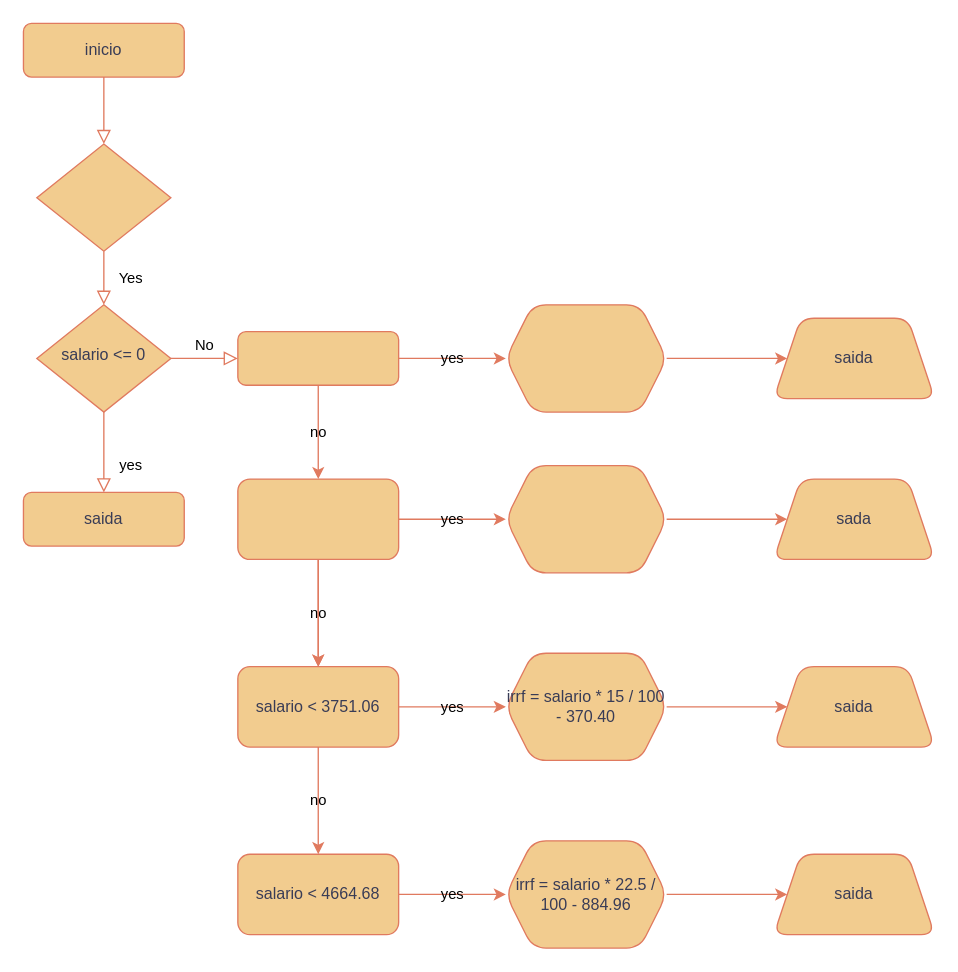
This 958x972 diagram has some shape labels left out. The shapes that lost their labels are listed below. From the top down, each one's centre as x and y in pixels, then its label:
(103,197): salario do funcionario
(318,357): salario < 2112
(586,358): irrf = 0
(318,518): salario < 2826.66
(586,518): irrf = salario * 7.5 / 100 - 158.40
